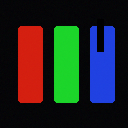4 line_v: (97, 19, 103, 51)
